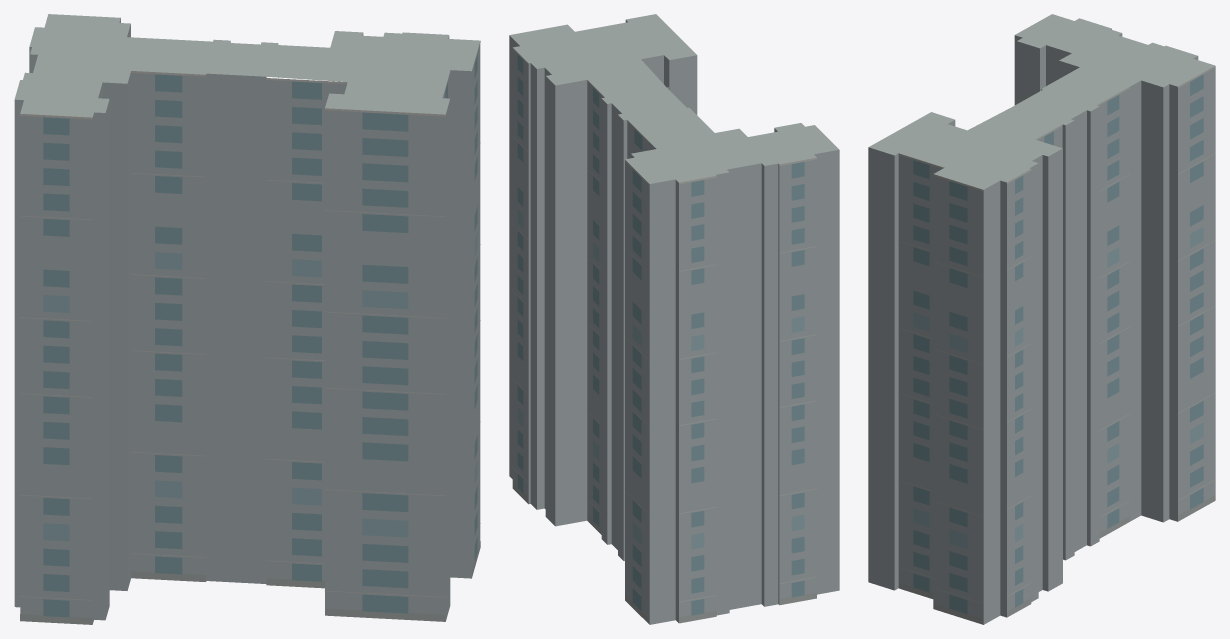
Rendered from survey-upis-32680939.glb.
3 renders of one model, left to right at view 1: azimuth 30°, elevation 25°; view 2: azimuth 150°, elevation 25°; view 3: azimuth 270°, elevation 25°, orthographic. The views are drawn at different scales.
Parts seen in each view (by area): view 1: survey-upis-32680939.tmp; view 2: survey-upis-32680939.tmp; view 3: survey-upis-32680939.tmp.
Boxes of the visible parts, x1,y1,x2,y2 form: survey-upis-32680939.tmp: [14, 14, 480, 624]; survey-upis-32680939.tmp: [509, 14, 839, 624]; survey-upis-32680939.tmp: [868, 14, 1215, 624].
Size of the model in its own units: 52.9 by 61 by 44.13.
